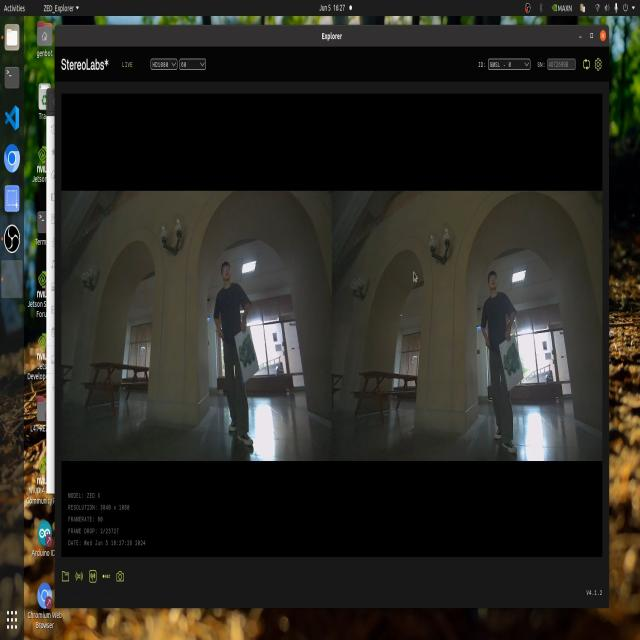green: (499, 340, 521, 386), (238, 331, 256, 376)
